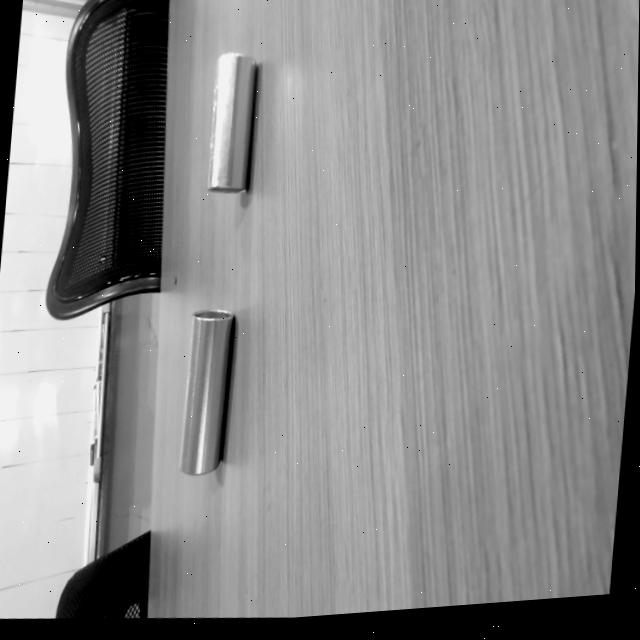Co_Lon: (176, 307, 234, 477)
Co_Nho: (205, 51, 257, 194)
